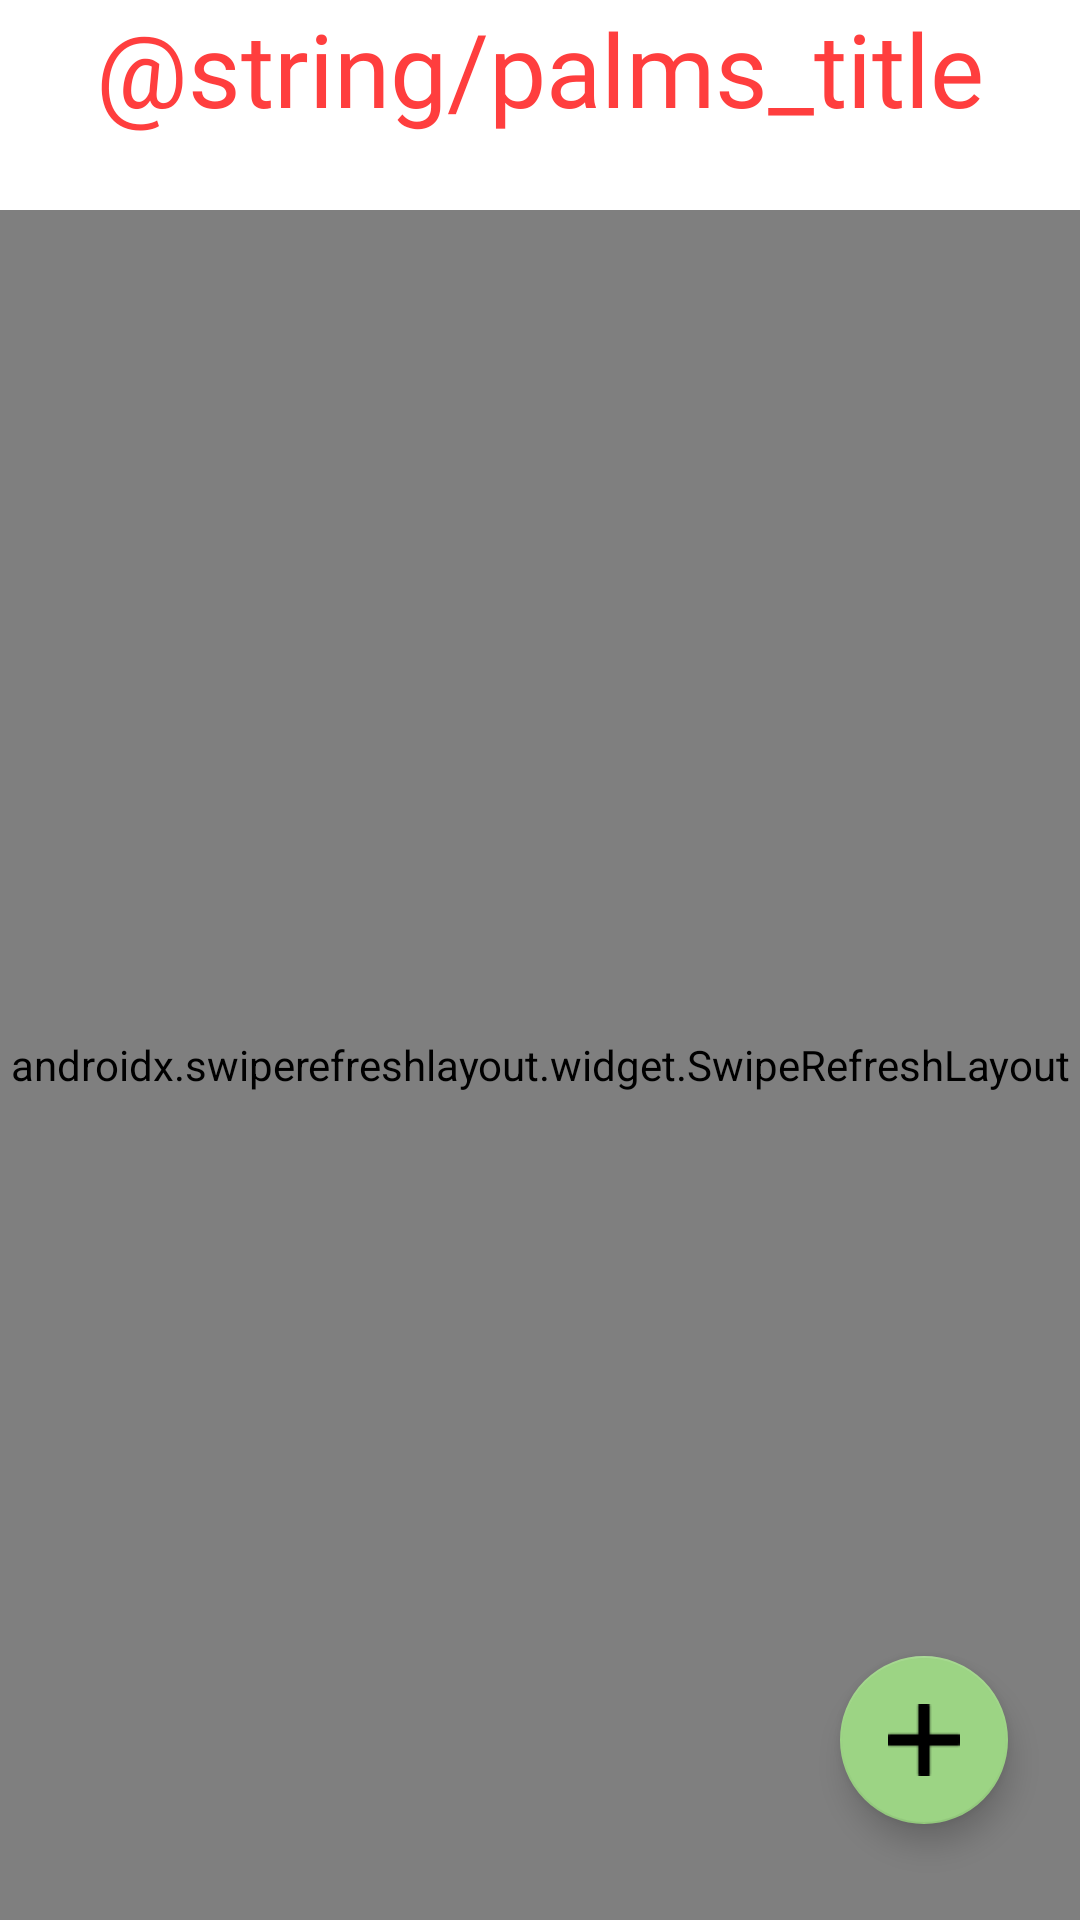

Named icons in this screenshot (1080 x 1920) and their bounding boxes, (x1, y1, x2, y2):
add: (840, 1656, 1008, 1824)
